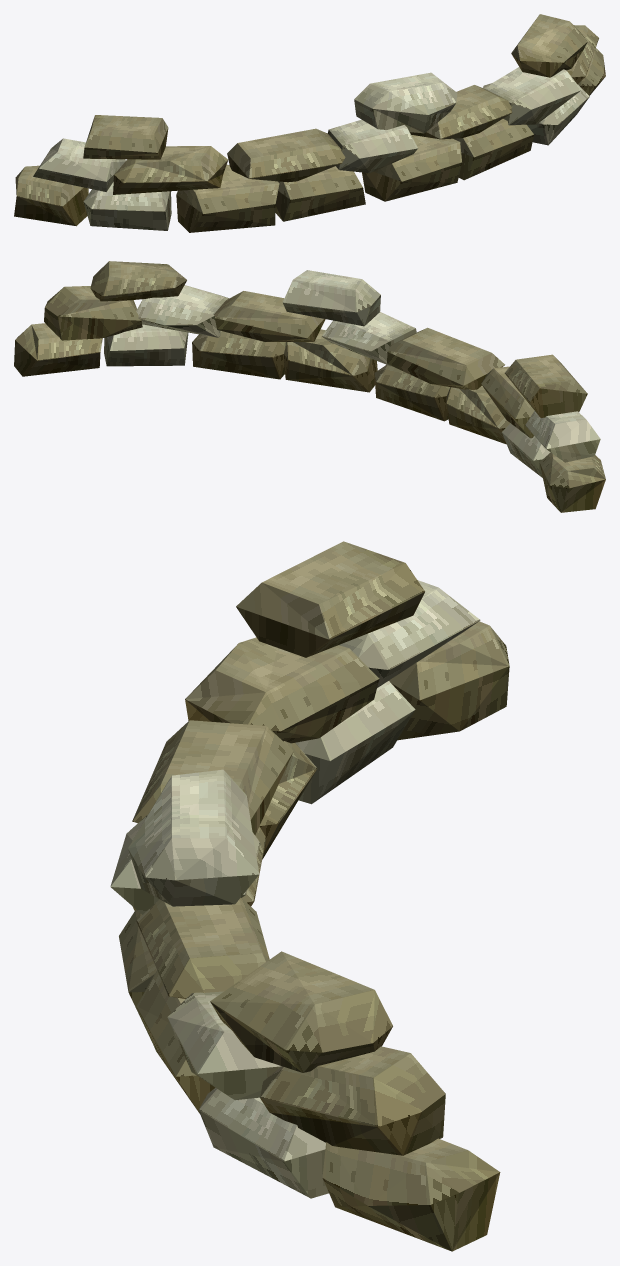
File: C1SMSANDBAG2_H.bgf.obj
3 renders of one model, top to bottom at view 1: azimuth 30°, elevation 25°; view 2: azimuth 150°, elevation 25°; view 3: azimuth 270°, elevation 25°, orthographic. The views are drawn at different scales.
Visible parts, largest first — view 1: FRAG_04, FRAG03, FRAG_02, FRAG05, FRAG01, C1SMSANDBAG2, FRAG06; view 2: FRAG_04, FRAG01, FRAG03, C1SMSANDBAG2, FRAG06, FRAG05, FRAG_02; view 3: FRAG_04, FRAG01, FRAG03, FRAG06, FRAG05, C1SMSANDBAG2, FRAG_02.
Part boxes in pixels (x1,y1,x2,y2): FRAG_04: (33,48,605,191); FRAG03: (113,85,512,194); FRAG_02: (176,164,365,232); FRAG05: (83,128,345,230); FRAG01: (14,25,598,226); C1SMSANDBAG2: (362,119,533,201); FRAG06: (511,14,589,145); FRAG_04: (14,270,600,462); FRAG01: (44,286,605,512); FRAG03: (213,291,534,438); C1SMSANDBAG2: (192,329,377,392); FRAG06: (90,261,188,366); FRAG05: (387,327,550,477); FRAG_02: (374,364,509,444); FRAG_04: (128,580,500,1251); FRAG01: (236,541,509,1155); FRAG03: (110,637,379,998); FRAG06: (198,951,392,1198); FRAG05: (132,681,415,835); C1SMSANDBAG2: (119,909,215,1113); FRAG_02: (132,741,317,910).
Size of the model in its own units: 6.98 by 1.19 by 2.06.
Materials: 11 (11 with a texture image).
